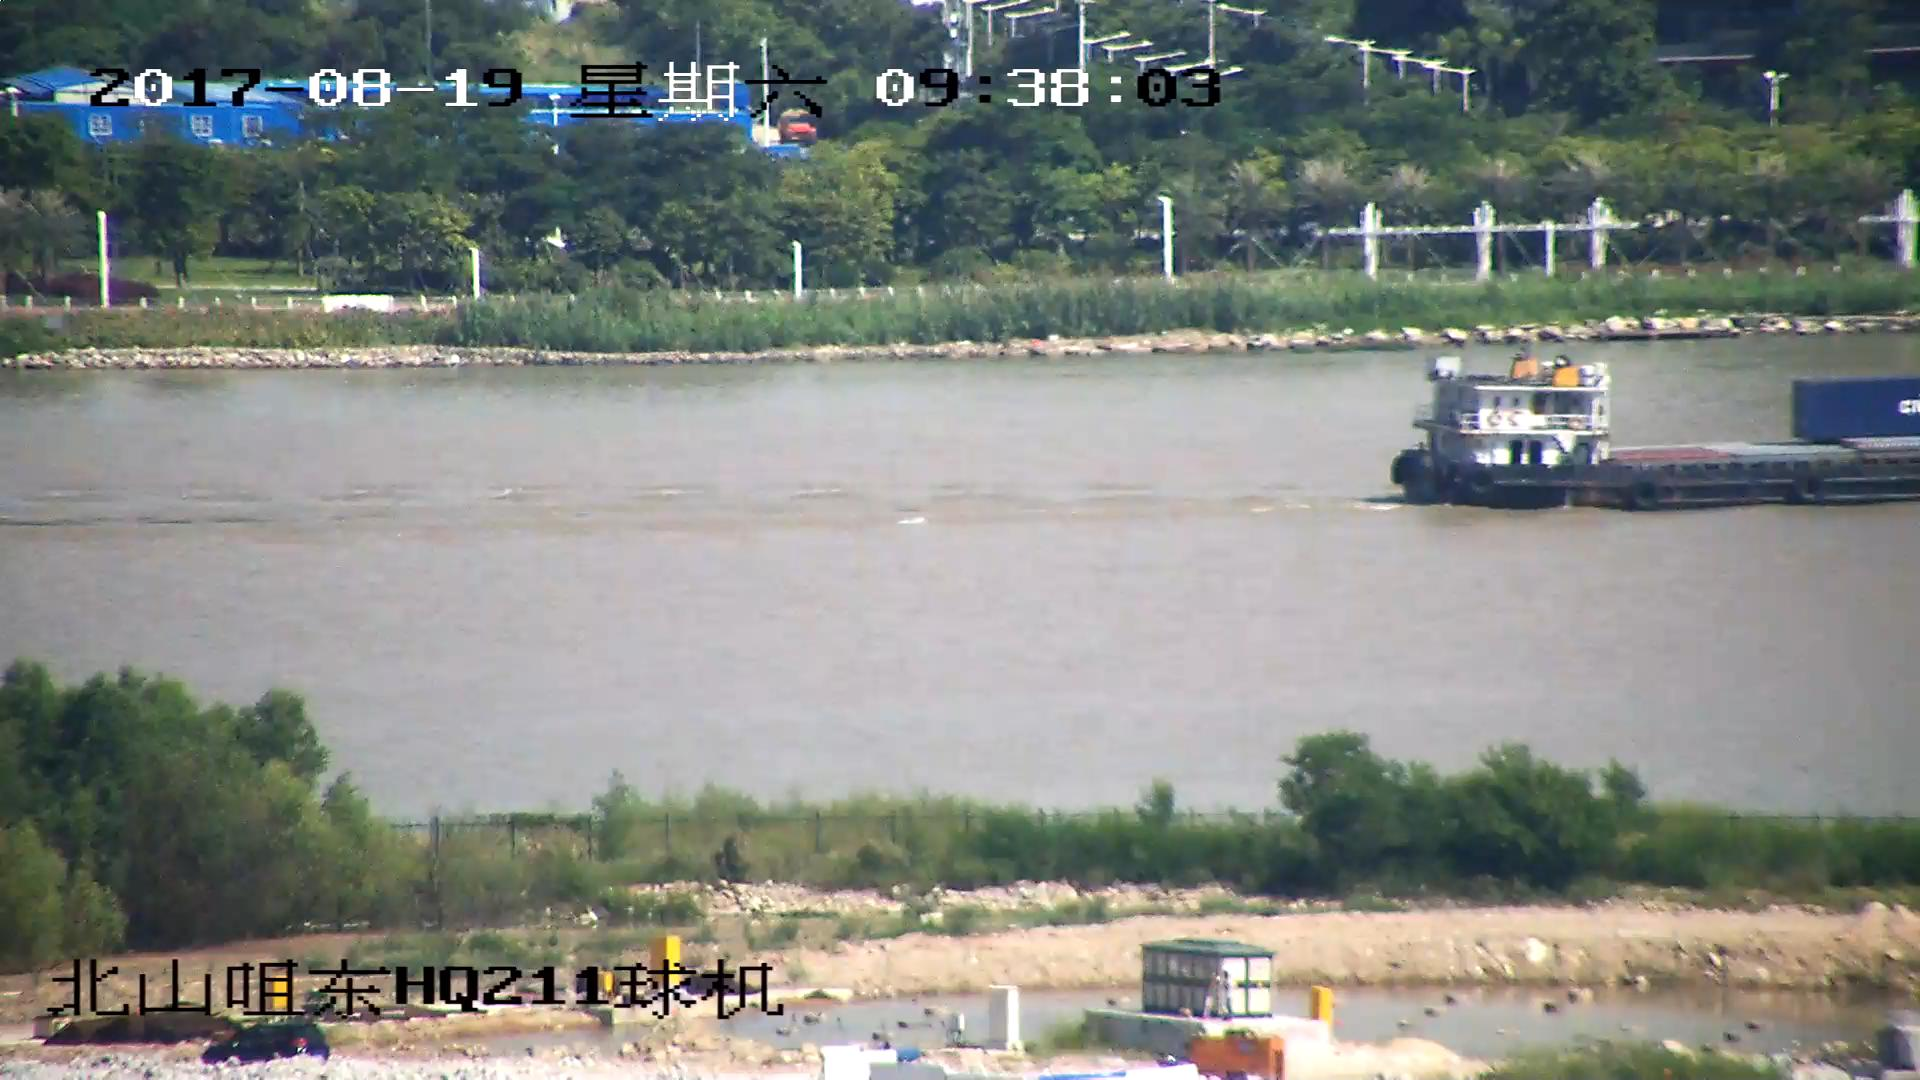container ship: (1390, 348, 1920, 511)
